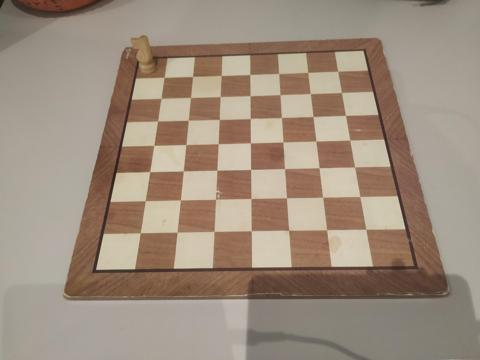xcorner: (137, 228, 147, 238), (248, 227, 258, 237), (285, 226, 295, 236), (323, 226, 333, 236), (141, 196, 151, 206), (212, 195, 222, 205), (283, 194, 293, 204), (356, 193, 366, 203), (179, 166, 189, 176), (213, 166, 223, 176), (247, 165, 257, 175), (281, 165, 291, 175), (316, 164, 326, 174), (149, 140, 159, 150), (214, 139, 224, 149), (247, 138, 257, 148), (313, 137, 323, 147), (346, 136, 356, 146), (153, 116, 163, 126), (184, 115, 194, 125), (215, 114, 225, 124), (246, 114, 256, 124), (278, 113, 288, 123), (310, 112, 320, 122), (156, 93, 166, 103), (186, 92, 196, 102), (246, 91, 256, 101), (307, 89, 317, 99), (159, 72, 169, 82), (188, 71, 198, 81), (246, 70, 256, 80), (275, 69, 285, 79), (334, 67, 344, 77), (211, 227, 220, 237), (176, 196, 186, 205), (247, 195, 257, 204), (146, 167, 155, 177), (351, 164, 361, 173), (182, 140, 191, 150), (280, 138, 289, 148), (342, 112, 352, 121), (216, 92, 226, 101), (277, 90, 286, 100), (338, 89, 348, 98), (217, 71, 227, 80), (305, 68, 314, 78), (174, 228, 183, 237), (362, 226, 371, 235), (320, 194, 329, 203)
